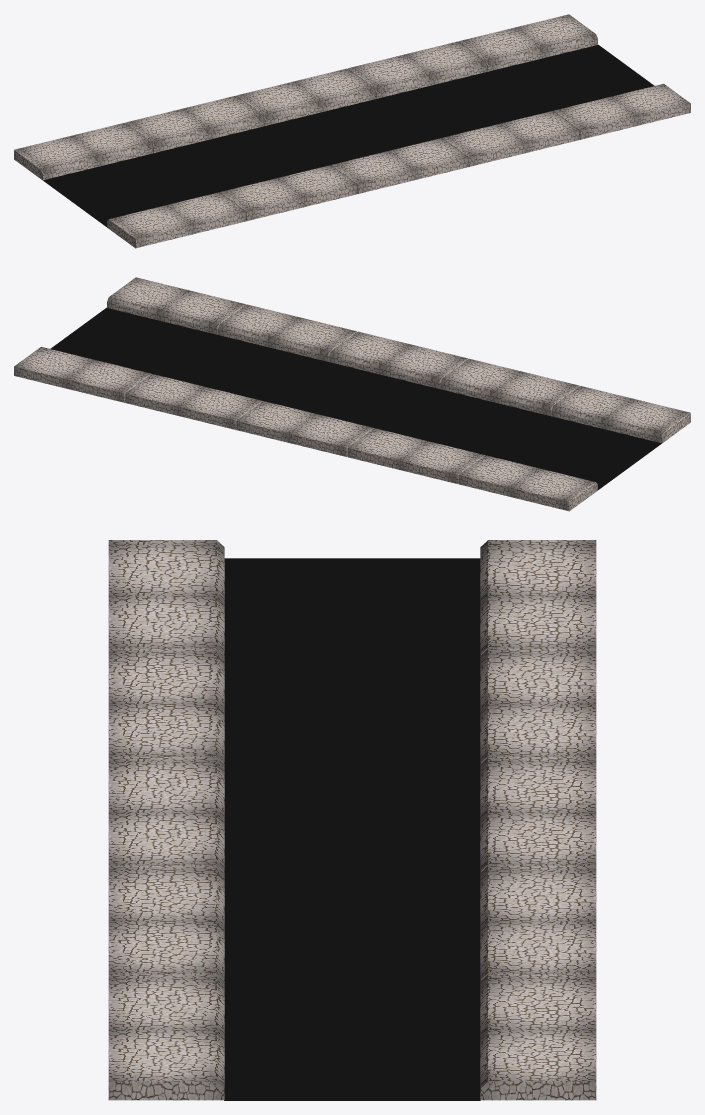
File: road.obj
The picture shows the model from 3 angles, top to bottom: view 1: azimuth 30°, elevation 25°; view 2: azimuth 150°, elevation 25°; view 3: azimuth 270°, elevation 25°; orthographic projection. The views are drawn at different scales.
Visible parts, largest first — view 1: Plane.001; view 2: Plane.001; view 3: Plane.001.
Part boxes in pixels (x1,y1,x2,y2): Plane.001: (14,14,690,248); Plane.001: (14,277,690,511); Plane.001: (108,540,596,1100).
Bounding box in the file's own units: 19.16 × 0.3207 × 7.28.
